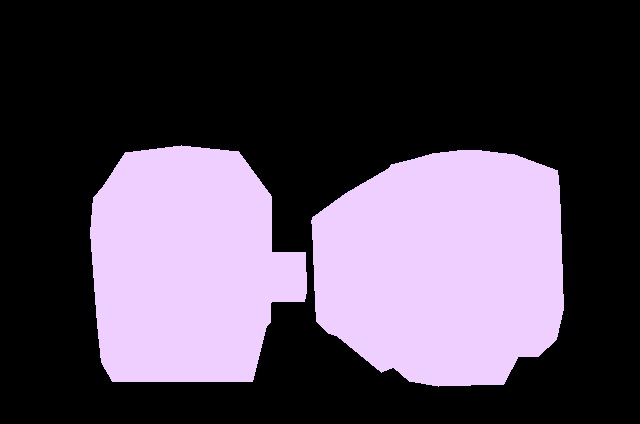Train: (311, 150, 563, 387), (90, 145, 272, 381), (271, 252, 307, 303)
